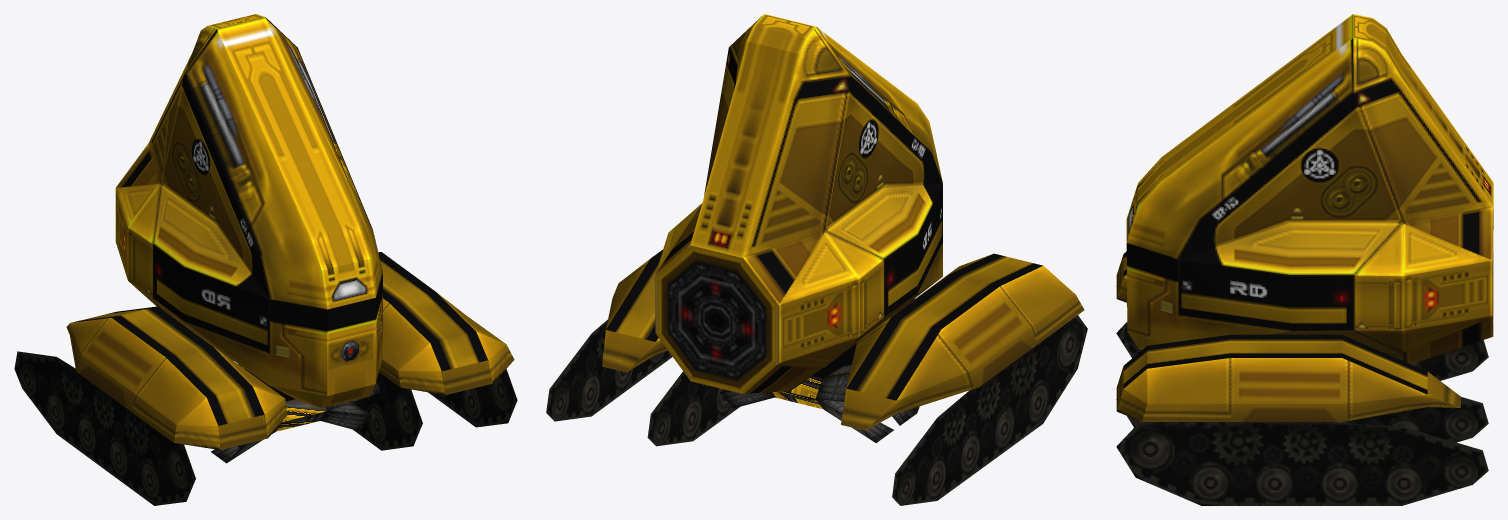
File: LOD_2-Scavenger_t.4-0.obj
The picture shows the model from 3 angles, left to right: view 1: azimuth 30°, elevation 25°; view 2: azimuth 150°, elevation 25°; view 3: azimuth 270°, elevation 25°; orthographic projection. The views are drawn at different scales.
Parts seen in each view (by area): view 1: Scavenger_t-obj2.1-0; view 2: Scavenger_t-obj2.1-0; view 3: Scavenger_t-obj2.1-0.
Part boxes in pixels (box(x1,y1,x2,y2)): Scavenger_t-obj2.1-0: box(14, 14, 517, 505); Scavenger_t-obj2.1-0: box(546, 14, 1087, 505); Scavenger_t-obj2.1-0: box(1116, 14, 1493, 505).
Bounding box in the file's own units: 8.04 × 8.78 × 7.52.
1 material, 1 textured.
